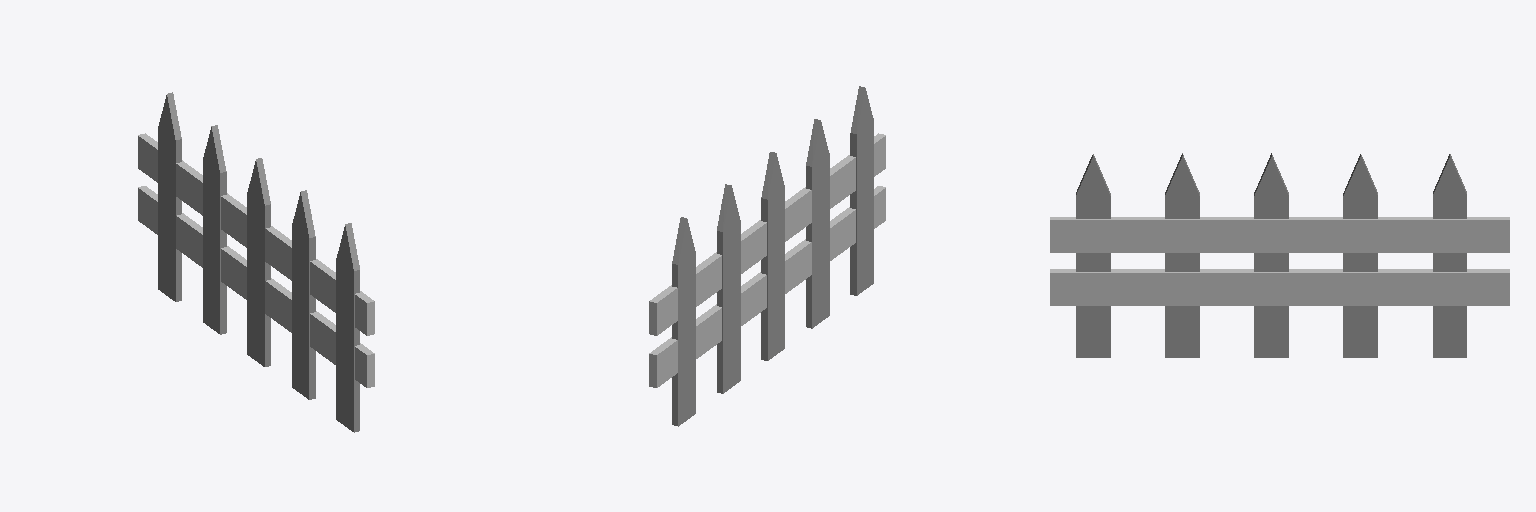
The model's file is wood_fence.obj.
The picture shows the model from 3 angles: view 1: azimuth 30°, elevation 25°; view 2: azimuth 150°, elevation 25°; view 3: azimuth 270°, elevation 25°; orthographic projection.
Bounding box in the file's own units: 0.1079 × 2.5 × 5.15.